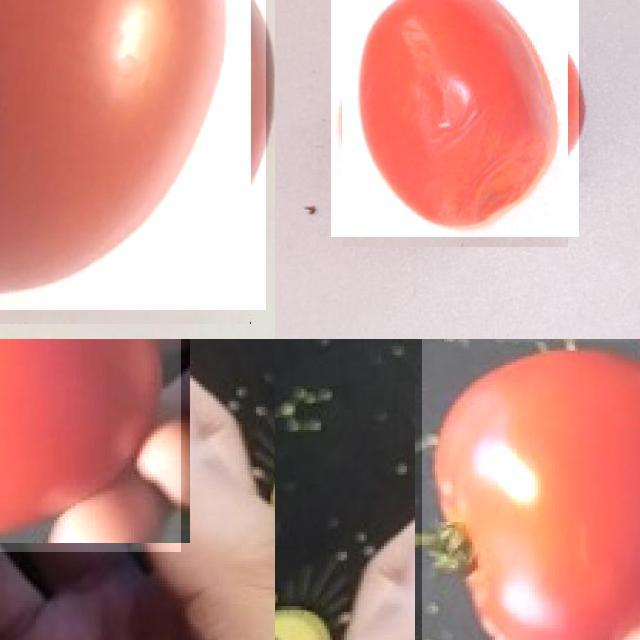Fresh Tomato: (0, 0, 265, 309), (421, 339, 640, 640), (0, 339, 181, 551)
Rotten Tomato: (331, 0, 578, 236)
